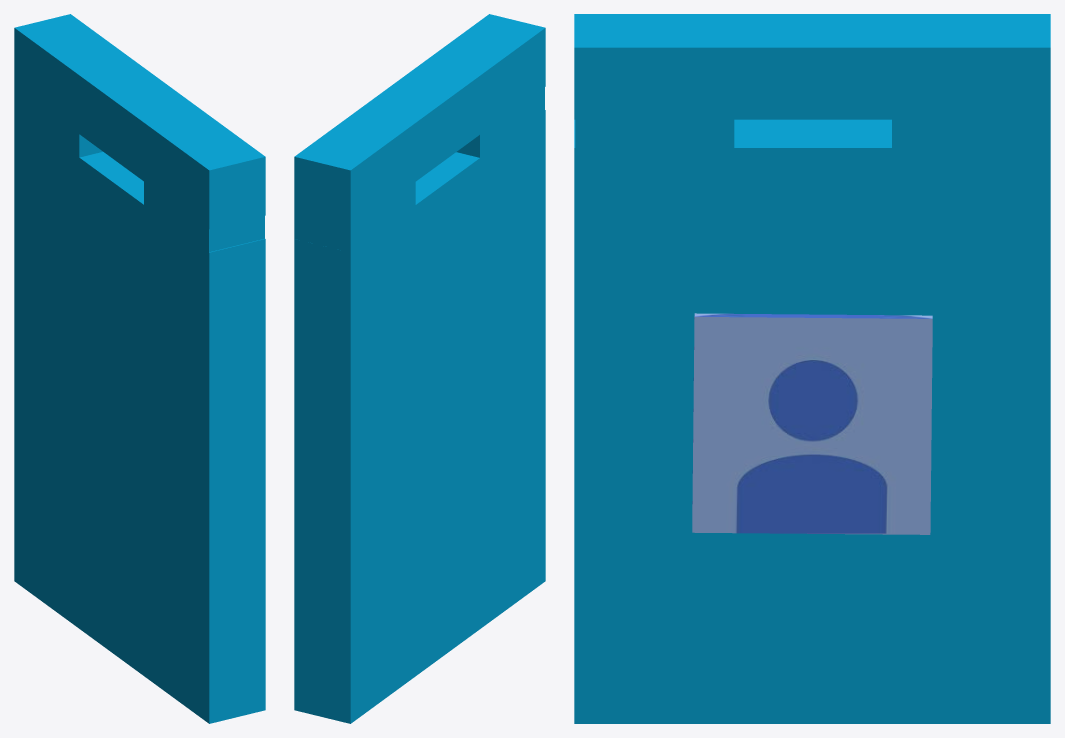
Rendered from badge.fbx.
3 views of the same model, side by side, from view 1: azimuth 30°, elevation 25°; view 2: azimuth 150°, elevation 25°; view 3: azimuth 270°, elevation 25° (orthographic). The views are drawn at different scales.
Parts seen in each view (by area): view 1: Cube.001, Cube.002, Cube.003, Cube.004; view 2: Cube.001, Cube.002, Cube.004, Cube.003; view 3: Cube.001, Cube, Cube.002, Cube.004, Cube.003.
Boxes of the visible parts, x1,y1,x2,y2 form: Cube.001: (14, 110, 265, 723); Cube.002: (14, 14, 265, 229); Cube.003: (144, 163, 264, 268); Cube.004: (14, 68, 102, 173); Cube.001: (294, 110, 545, 723); Cube.002: (294, 14, 545, 229); Cube.004: (294, 163, 415, 267); Cube.003: (456, 70, 544, 173); Cube.001: (574, 119, 1050, 723); Cube: (692, 313, 932, 534); Cube.002: (574, 14, 1050, 119); Cube.004: (892, 96, 1050, 168); Cube.003: (575, 97, 734, 168).
Bounding box in the file's own units: 44.02 × 376 × 240.
